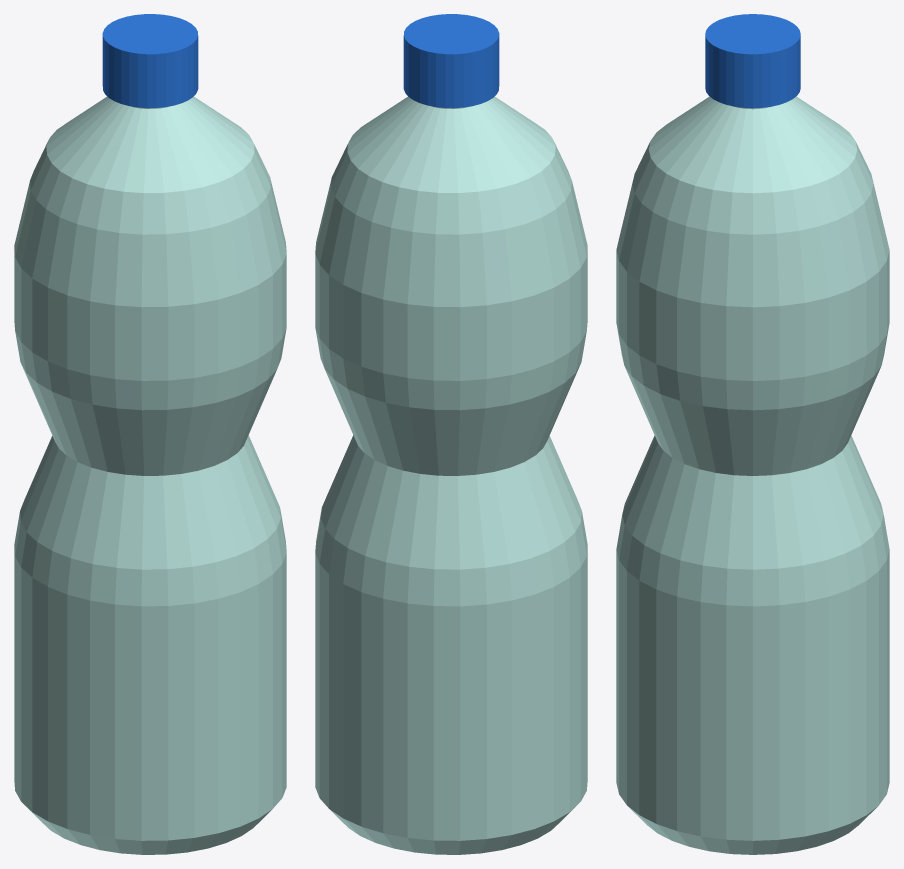
File: Bottle.fbx
3 views of the same model, side by side, from view 1: azimuth 30°, elevation 25°; view 2: azimuth 150°, elevation 25°; view 3: azimuth 270°, elevation 25° (orthographic).
Parts seen in each view (by area): view 1: Бутылка; view 2: Бутылка; view 3: Бутылка.
Boxes of the visible parts, box(x1,y1,x2,y2) form: Бутылка: box(14, 14, 286, 854); Бутылка: box(315, 14, 587, 854); Бутылка: box(616, 14, 889, 854).
Size of the model in its own units: 200 by 624 by 200.
